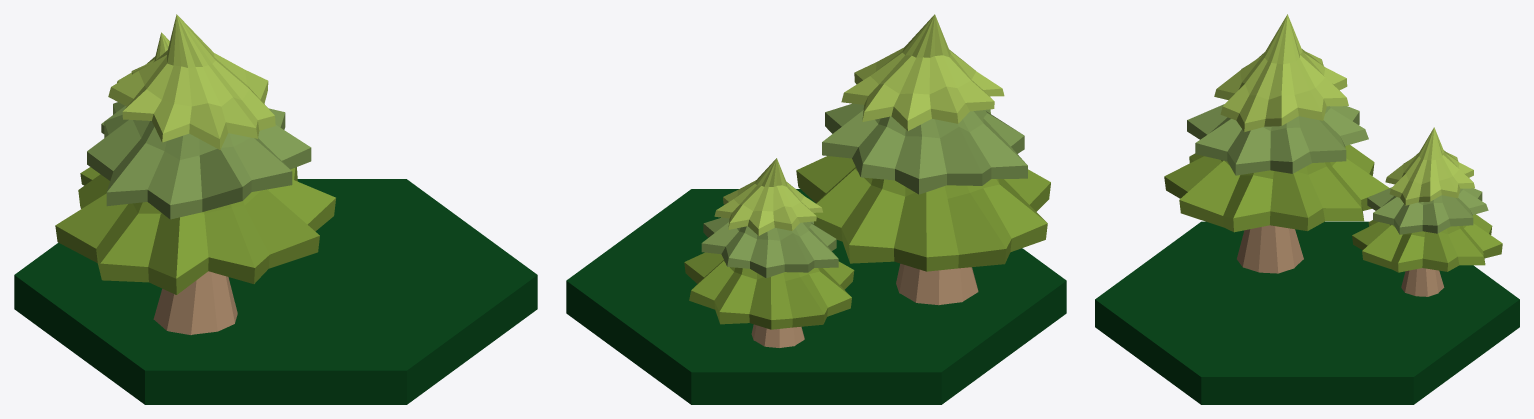
Rendered from hex_tree.fbx.
3 renders of one model, left to right at view 1: azimuth 30°, elevation 25°; view 2: azimuth 150°, elevation 25°; view 3: azimuth 270°, elevation 25°, orthographic. The views are drawn at different scales.
Parts seen in each view (by area): view 1: tree; view 2: tree; view 3: tree.
Boxes of the visible parts, left/top/right/bottom form: tree: left=14, top=14, right=537, bottom=404; tree: left=566, top=14, right=1066, bottom=404; tree: left=1095, top=14, right=1519, bottom=404.
Bounding box in the file's own units: 0.8955 × 0.6987 × 1.
